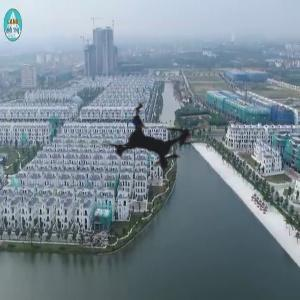drone: (74, 59, 237, 222)
